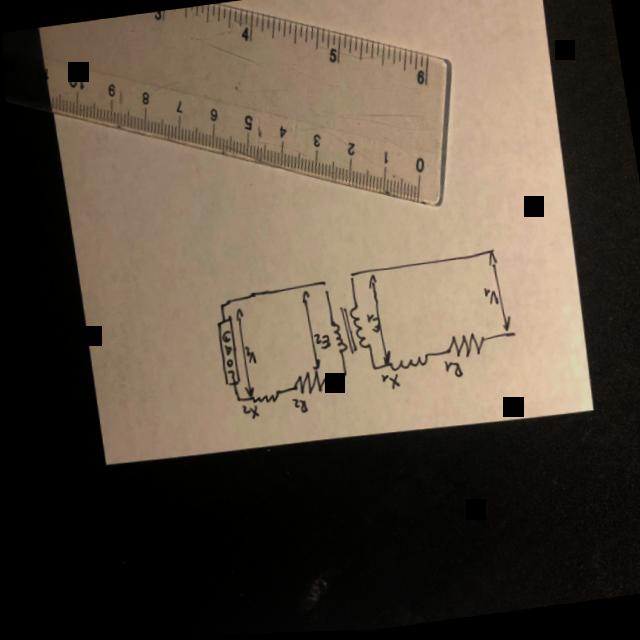inductor: (385, 356, 427, 374), (247, 390, 276, 407)
junction: (317, 282, 327, 297), (344, 274, 353, 285), (230, 395, 239, 405), (336, 372, 344, 383), (215, 302, 223, 312), (368, 366, 375, 375)
resistor: (212, 316, 238, 388), (442, 334, 483, 364), (287, 370, 324, 398)
terminal: (483, 248, 494, 259), (505, 331, 514, 342)
text: (217, 331, 232, 383), (440, 360, 461, 384), (375, 371, 396, 393), (362, 313, 379, 337), (309, 333, 328, 354), (479, 289, 496, 311), (237, 404, 256, 423), (286, 398, 304, 416), (240, 345, 254, 368)
transformer: (323, 304, 370, 359)
